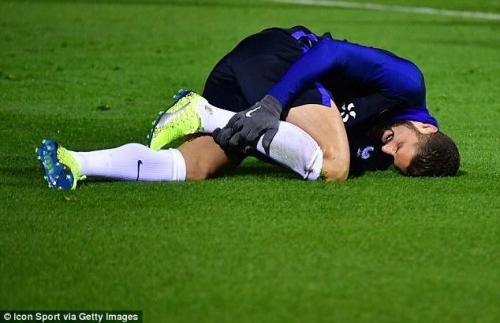falling: (25, 19, 466, 193)
